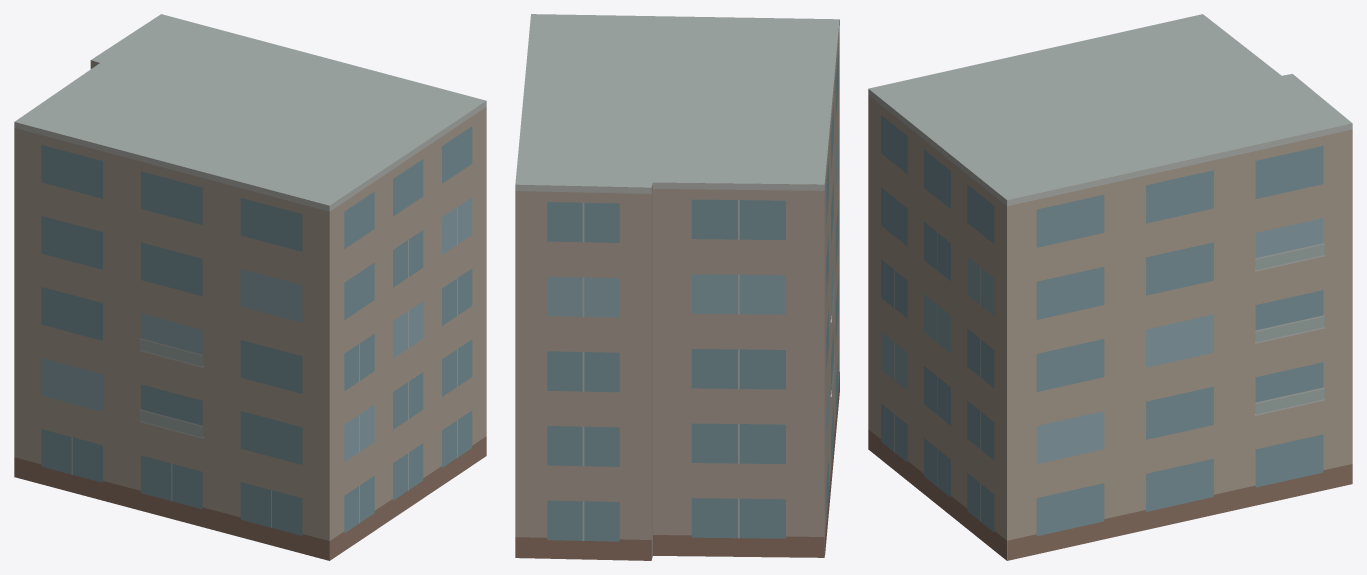
The model's file is survey-upis-32894155.glb.
3 renders of one model, left to right at view 1: azimuth 30°, elevation 25°; view 2: azimuth 150°, elevation 25°; view 3: azimuth 270°, elevation 25°, orthographic. The views are drawn at different scales.
Parts seen in each view (by area): view 1: survey-upis-32894155.tmp; view 2: survey-upis-32894155.tmp; view 3: survey-upis-32894155.tmp.
Part boxes in pixels (<box>): survey-upis-32894155.tmp: <box>14,14,486,560</box>; survey-upis-32894155.tmp: <box>515,14,839,560</box>; survey-upis-32894155.tmp: <box>868,14,1352,560</box>.
Bounding box in the file's own units: 15.96 × 14.4 × 17.54.
